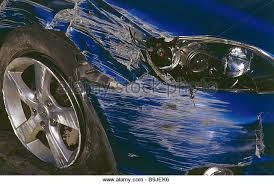Broken-glass: (147, 37, 272, 94)
Scratch: (94, 86, 251, 170), (52, 2, 152, 84)
